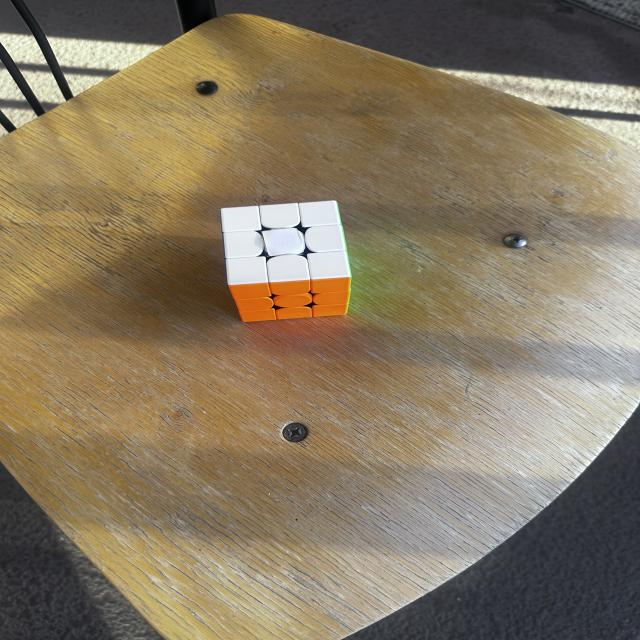sticker: (306, 250, 352, 294), (267, 253, 313, 290), (225, 255, 270, 289), (260, 227, 308, 258), (296, 199, 341, 228), (303, 224, 346, 254), (218, 204, 262, 233), (222, 230, 264, 259), (258, 203, 302, 227), (234, 296, 275, 313), (312, 290, 351, 306), (275, 306, 313, 320), (312, 304, 349, 318)
